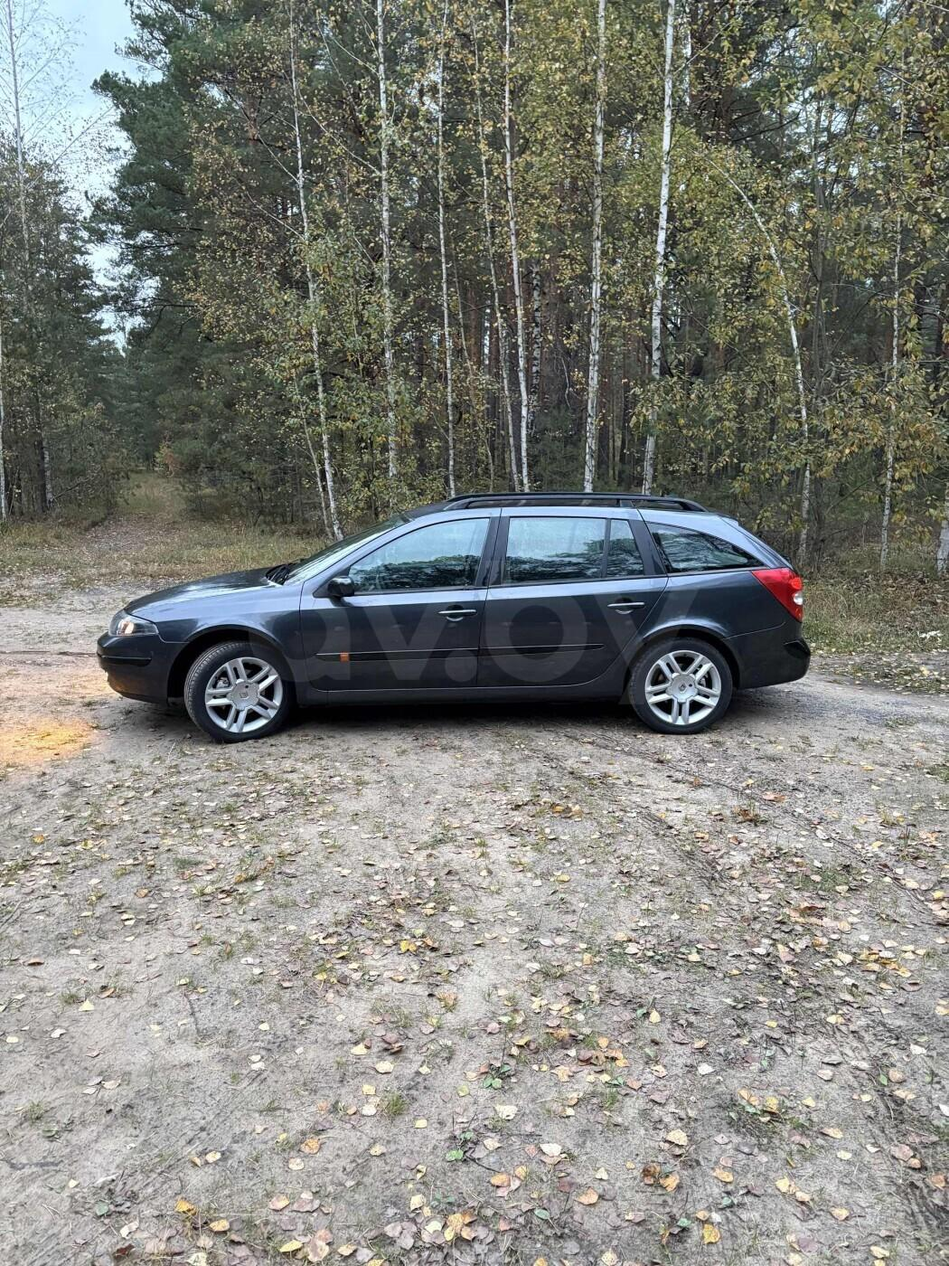Laguna_2001-2005: (98, 492, 810, 742)
